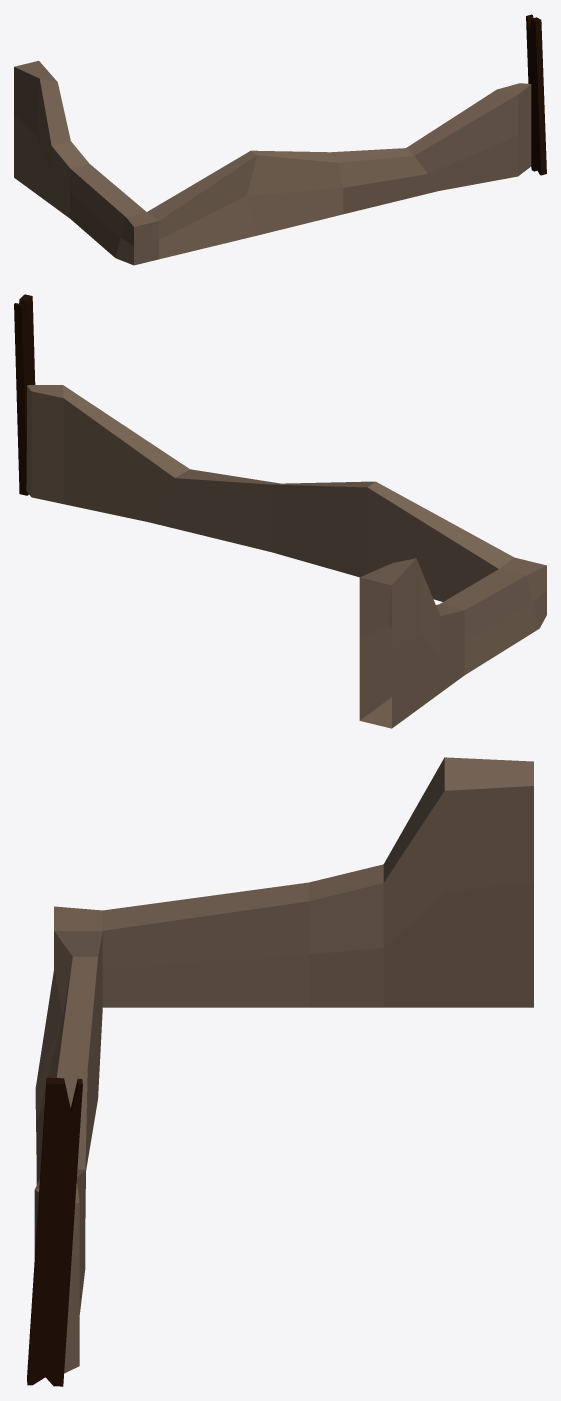
The model's file is M_RuinA.FBX.
3 views of the same model, one above another, from view 1: azimuth 30°, elevation 25°; view 2: azimuth 150°, elevation 25°; view 3: azimuth 270°, elevation 25° (orthographic). The views are drawn at different scales.
Parts seen in each view (by area): view 1: M_RuinA; view 2: M_RuinA; view 3: M_RuinA.
Part boxes in pixels (box(x1,y1,x2,y2)): M_RuinA: box(14, 14, 546, 265); M_RuinA: box(14, 294, 546, 728); M_RuinA: box(27, 757, 533, 1386).
Size of the model in its own units: 746 by 262 by 397.
